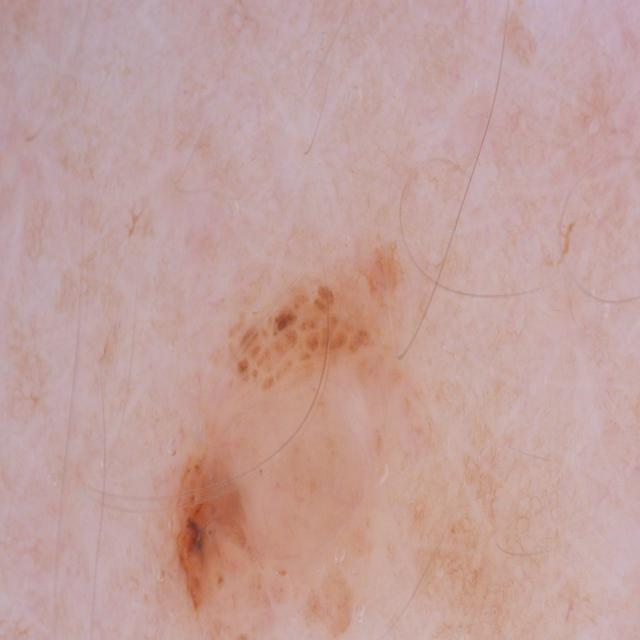Melanoma: (142, 280, 447, 640)
